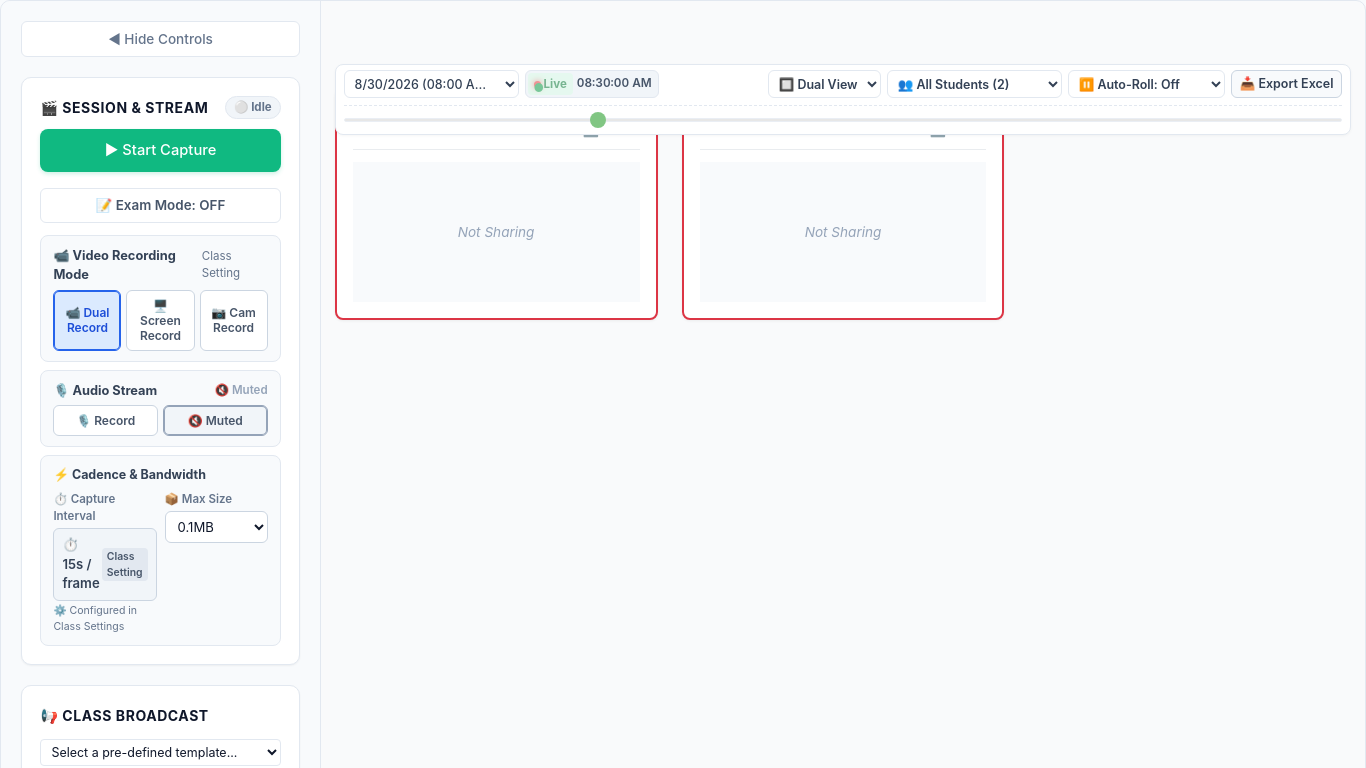
Test: MonitorView Component Suite › toggles controls sidebar visibility
Click the button "◀ Hide Controls" at [160, 39], box x1=21 y1=21 x2=300 y2=57
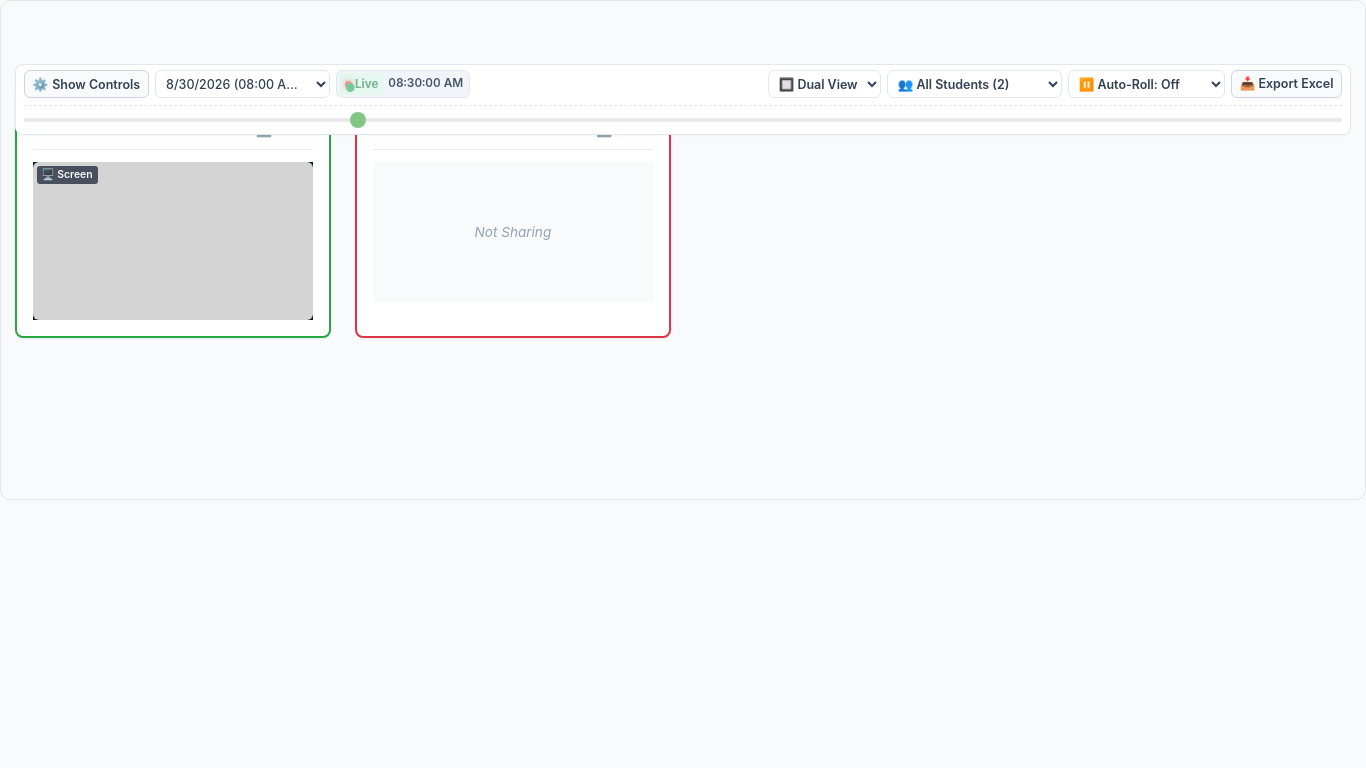
expect the button "⚙️ Show Controls" is shown: met
Click the button "⚙️ Show Controls" at [86, 84], box x1=24 y1=70 x2=149 y2=98
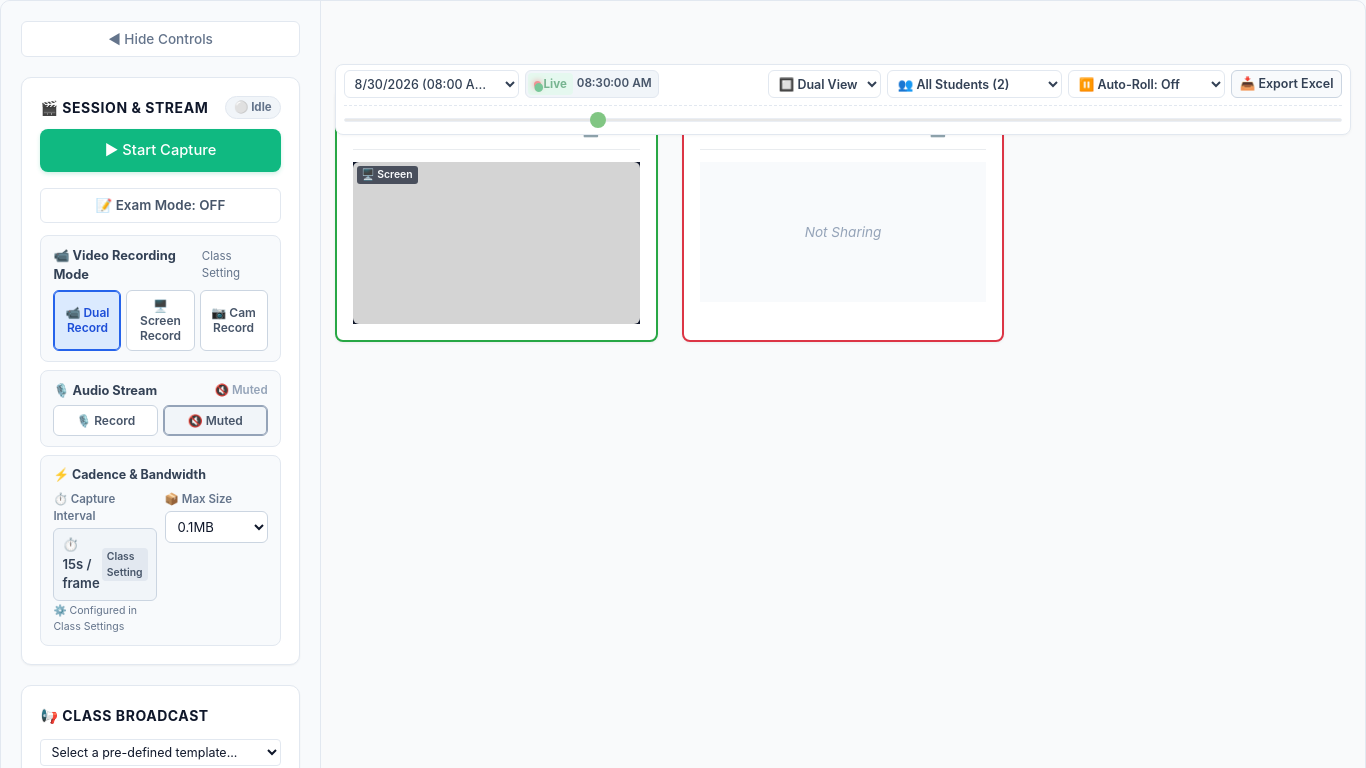
expect the button "◀ Hide Controls" is shown: met, box x1=21 y1=21 x2=300 y2=57
